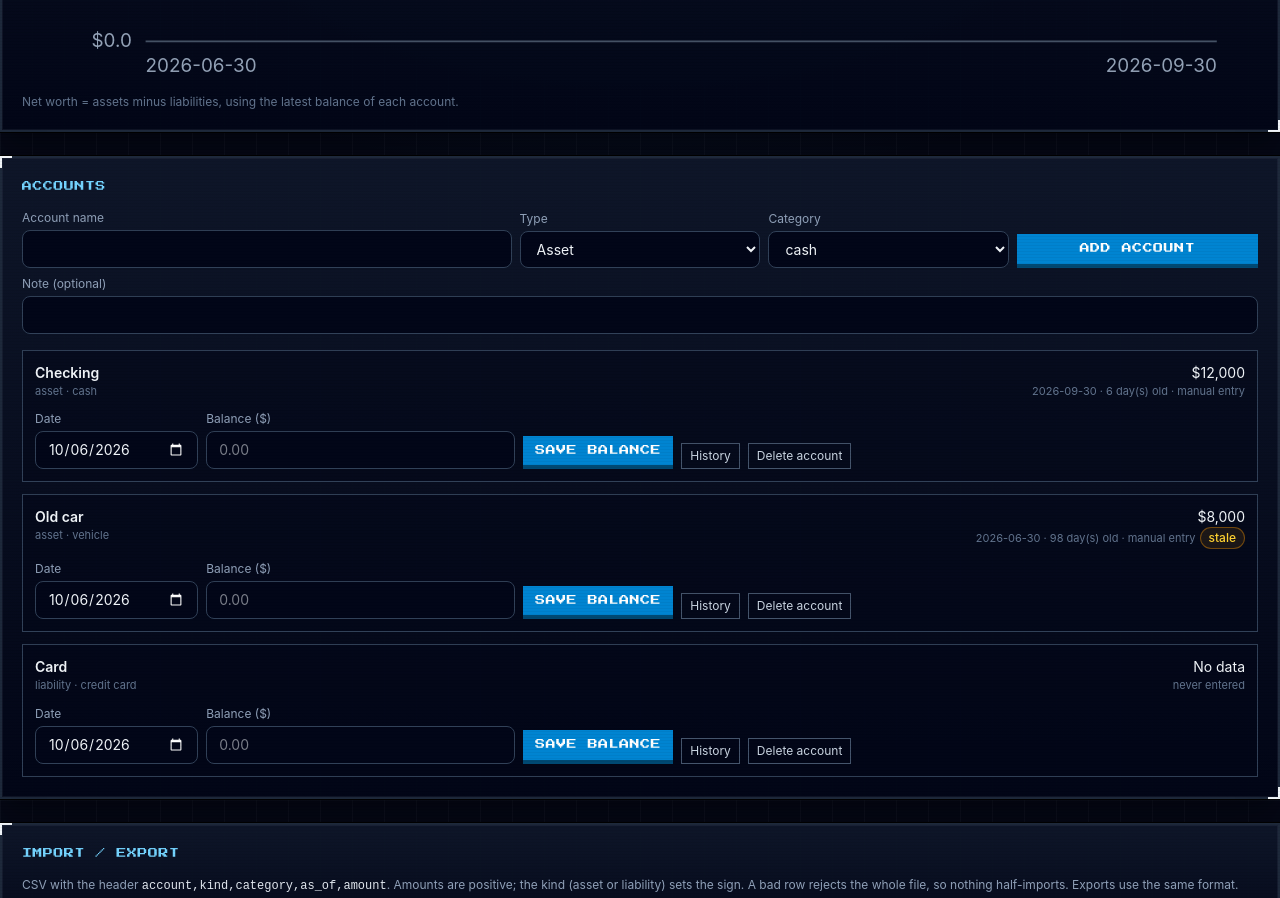
Test: NetWorthPage › saves a balance and rejects a negative one before sending
(page scrolled)
Type "-5" into the field labelled "Balance ($)" below "Checking" at point(361, 450), box [206,431,515,469]
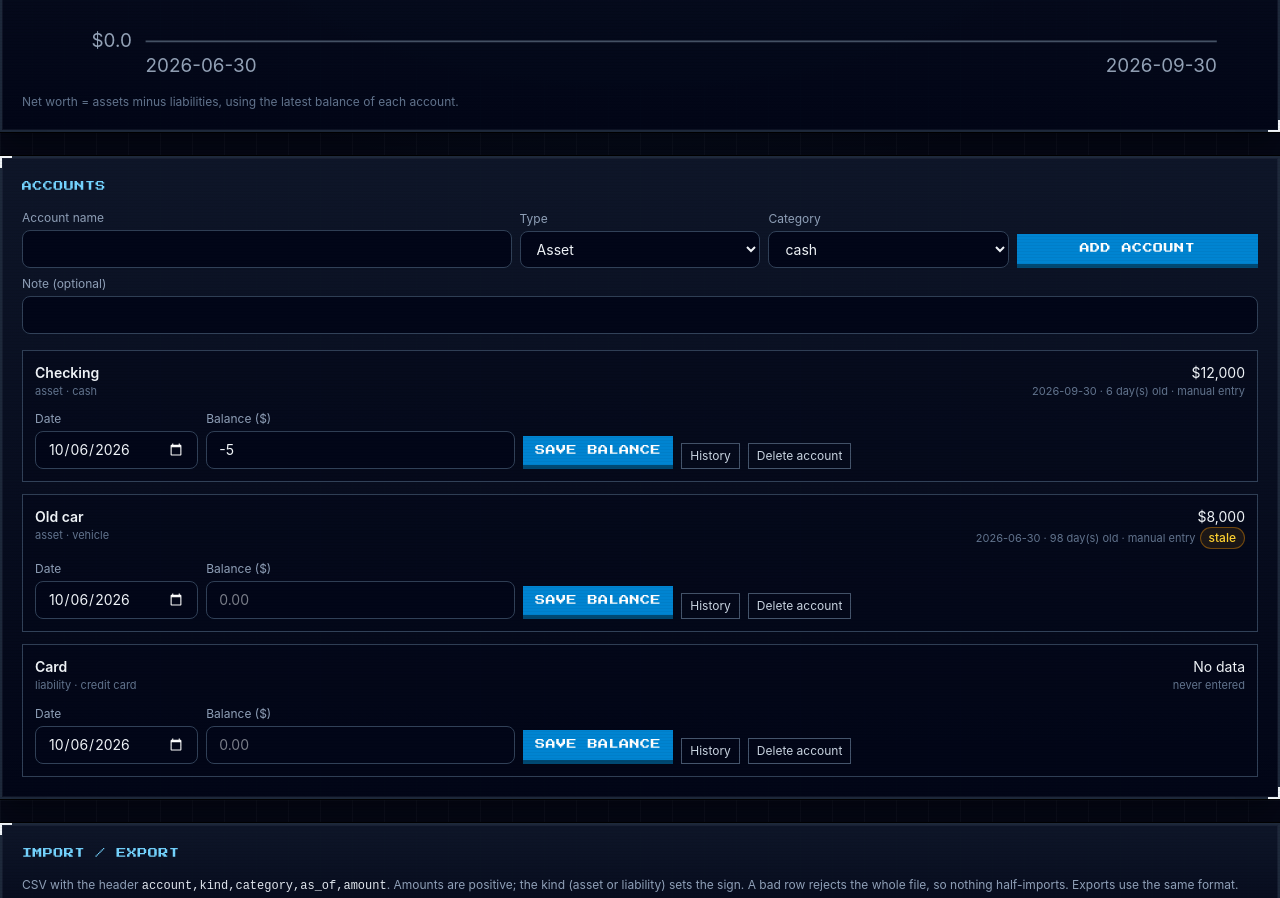
Click the 1st button "Save balance" at point(598, 453), box [523,436,673,469]
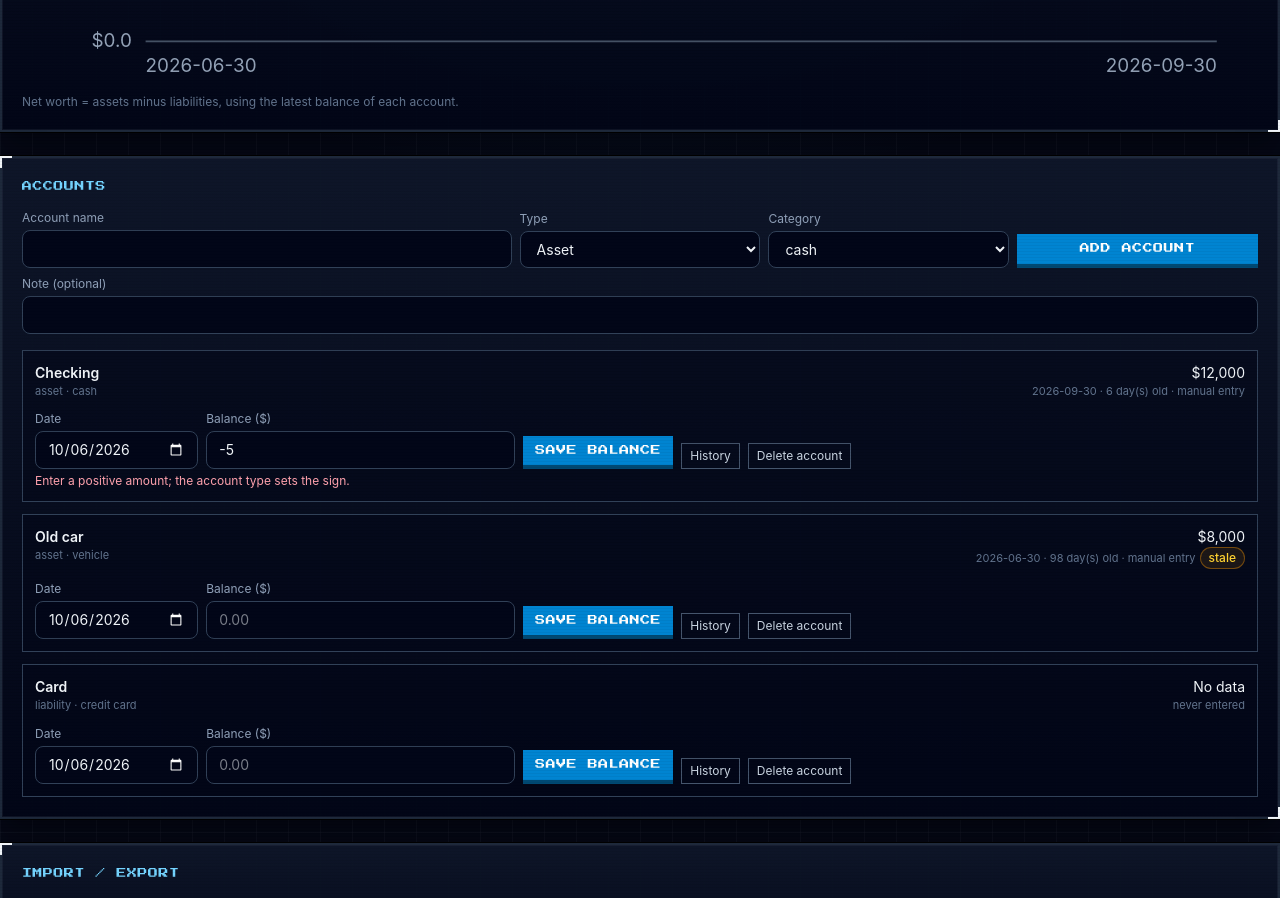
Expected: the text "Enter a positive amount; the account type sets the sign." is shown, [35,473,350,488]
Type "2026-10-01" into the date field labelled "Date" below "Checking" at point(117, 450), box [35,431,198,469]
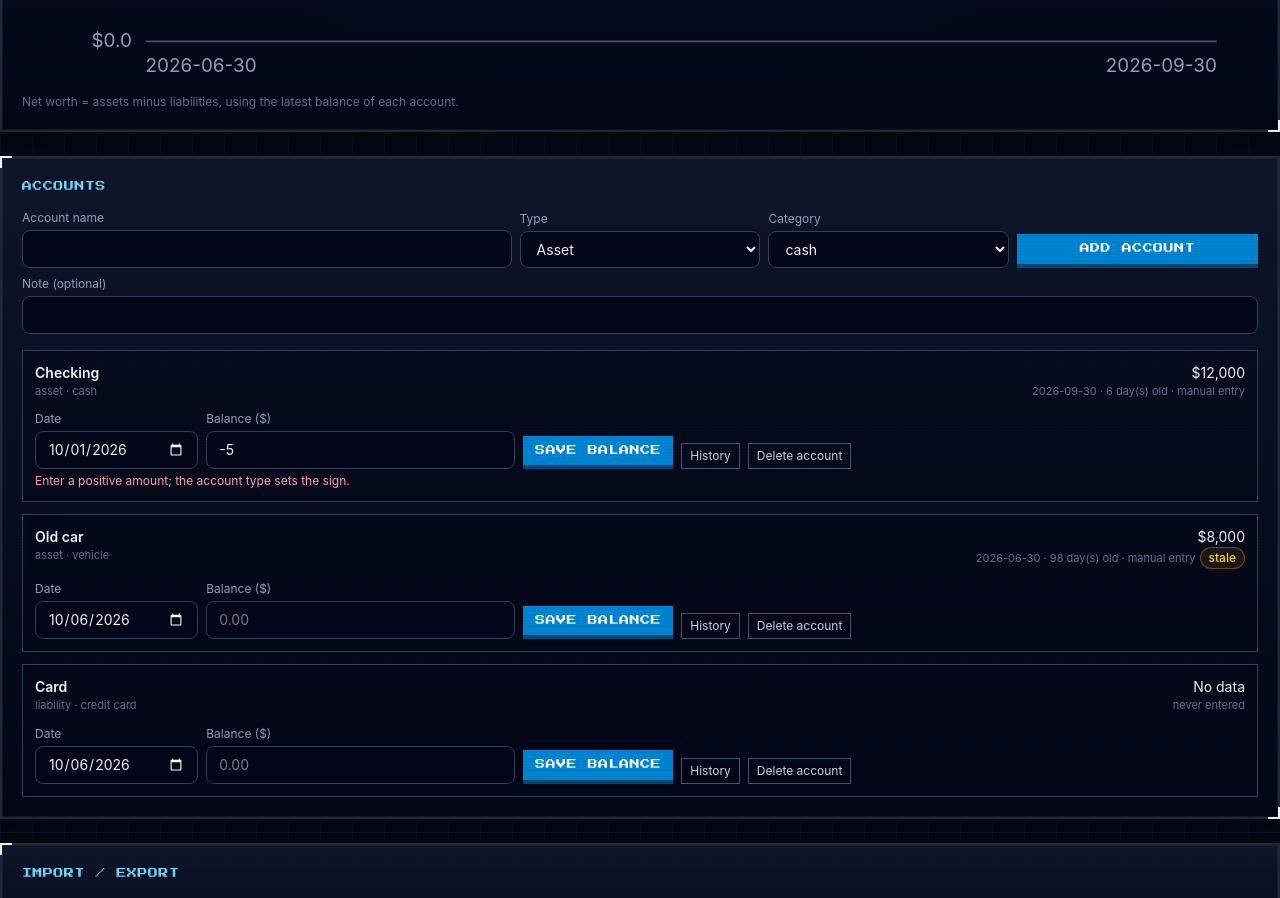
Replace the text in the field labelled "Balance ($)" below "Checking" with "12500.50" at point(361, 450), box [206,431,515,469]
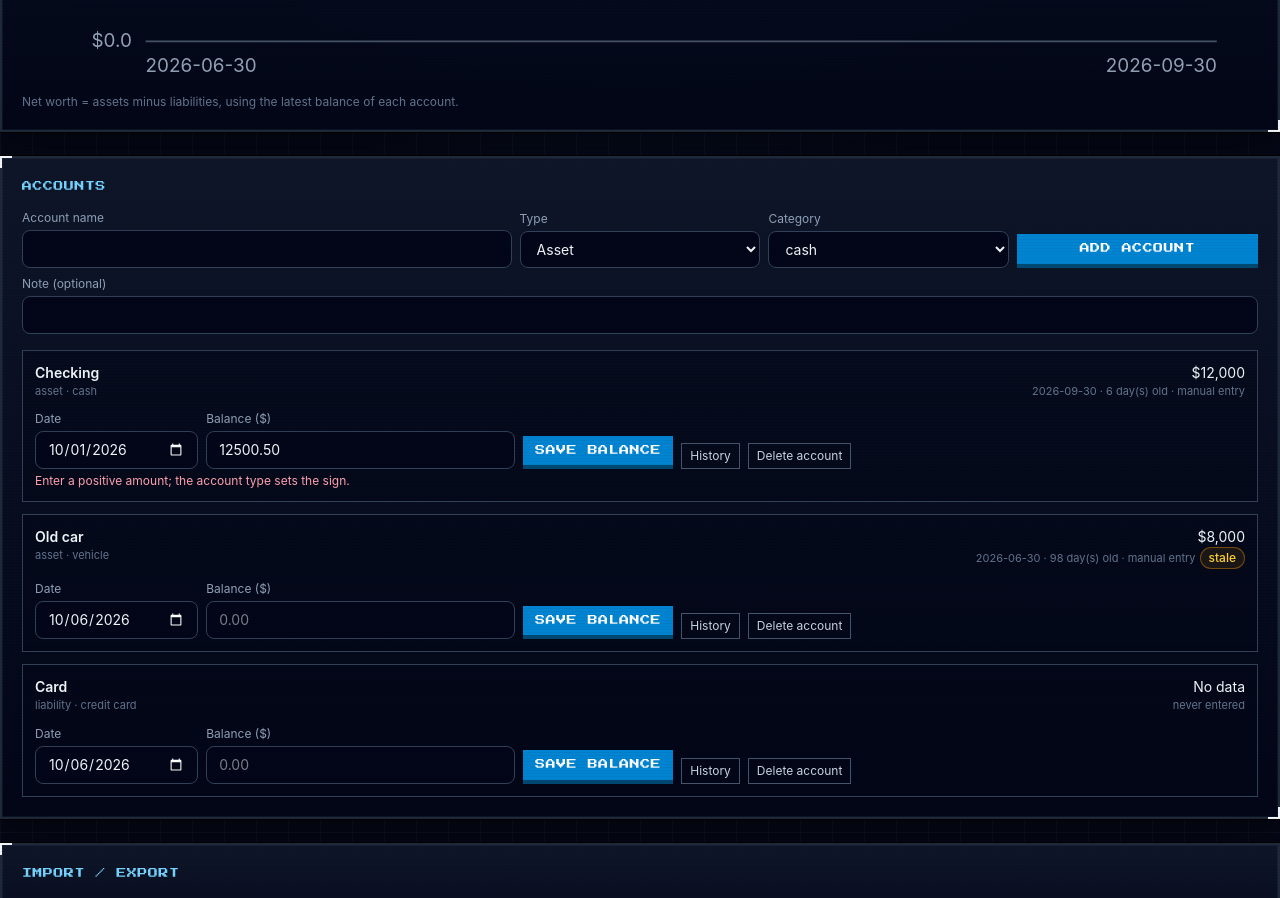
Click the 1st button "Save balance" at point(598, 453), box [523,436,673,469]
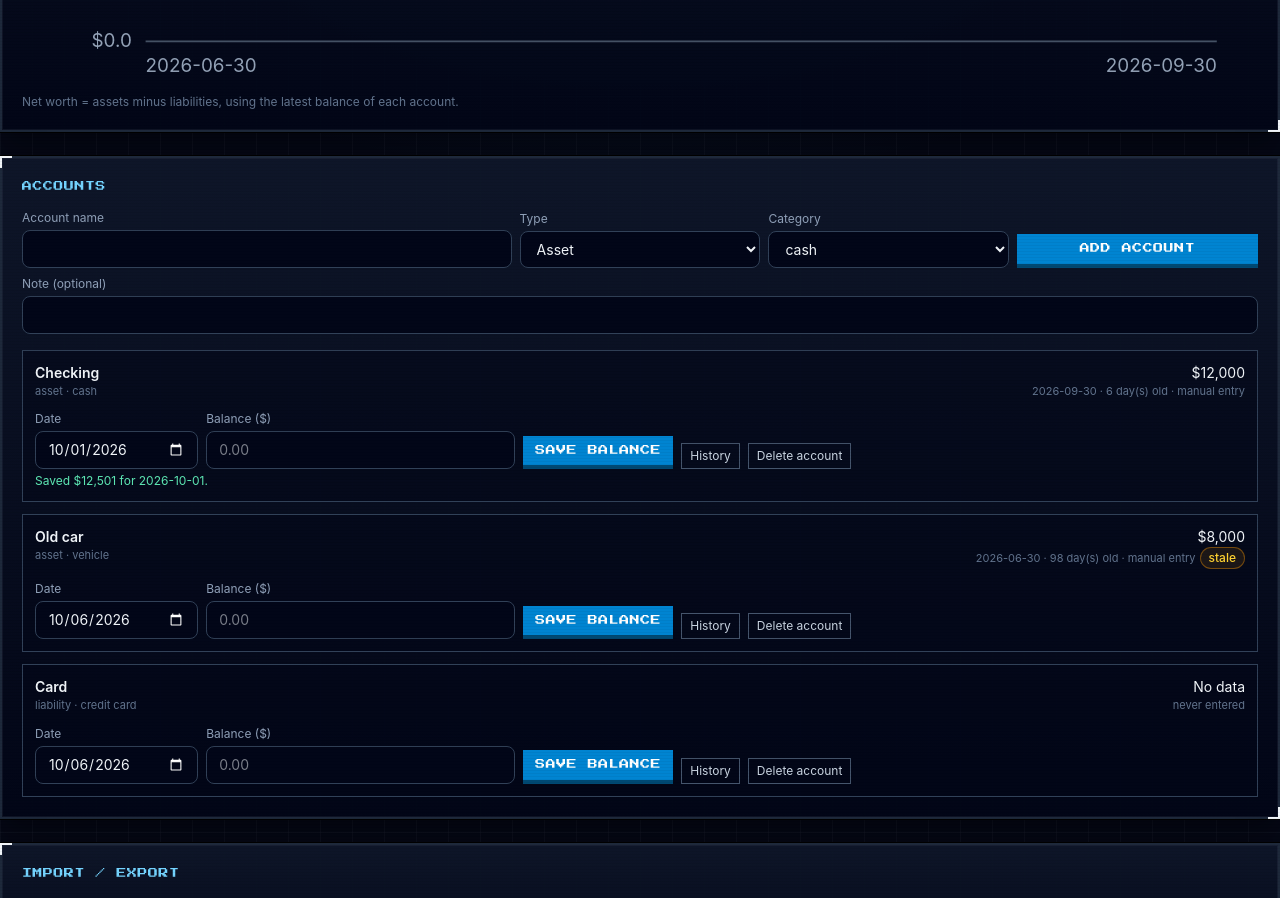
Expected: the text "Saved $12,501 for 2026-10-01." is shown, [35,473,208,488]
